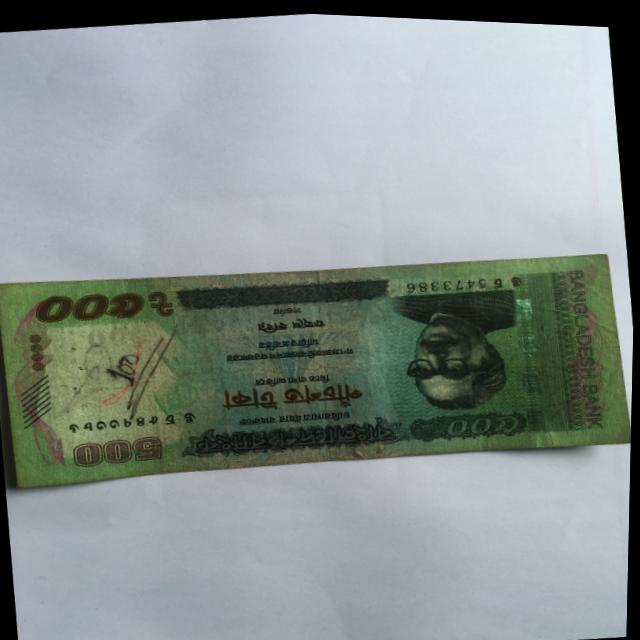Taka: (0, 211, 636, 507)
